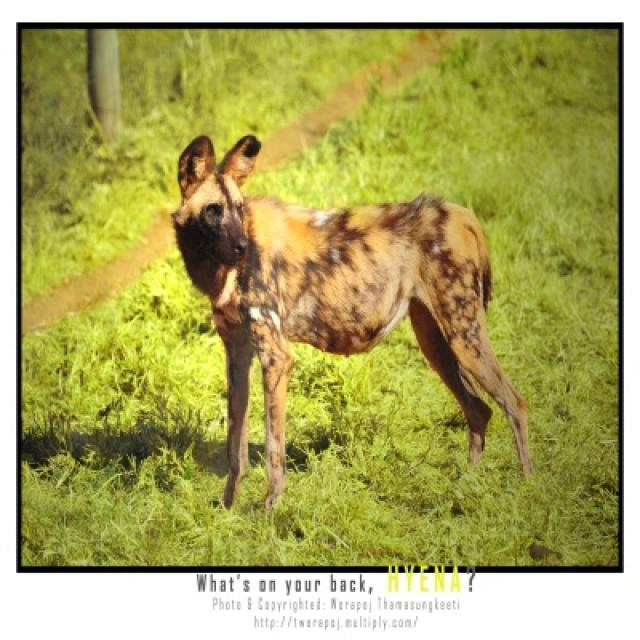hyena: (168, 136, 533, 510)
